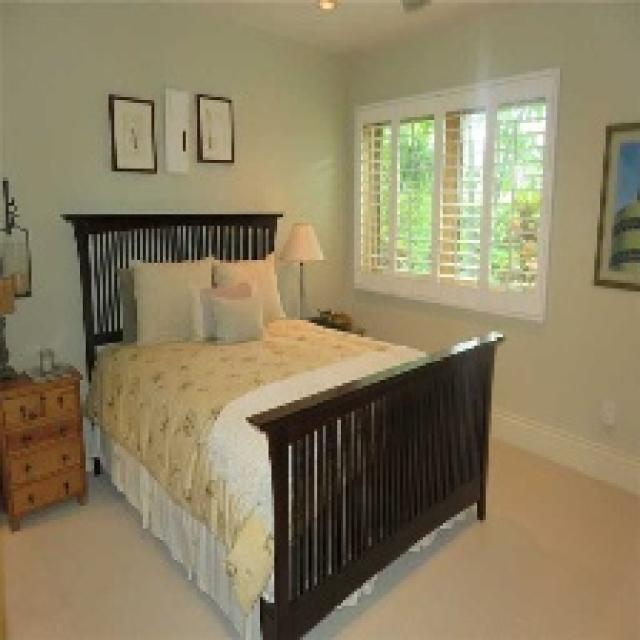Bed: (57, 212, 503, 637)
